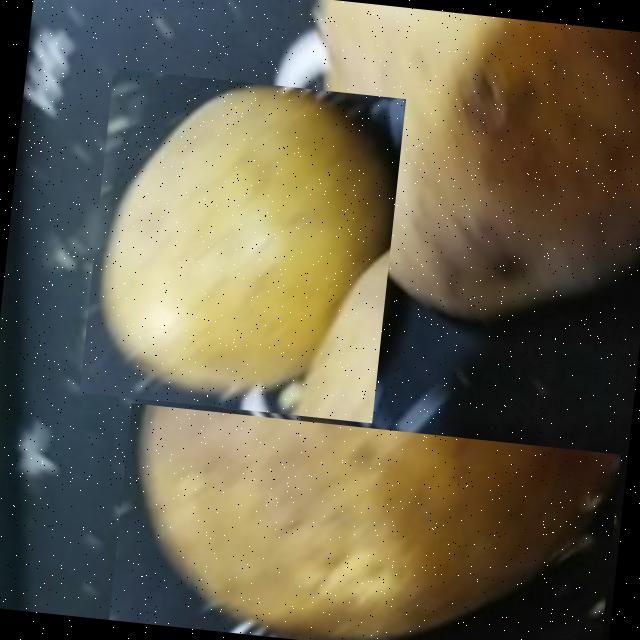Damaged potato: (275, 0, 640, 337), (107, 402, 619, 640)
Potato: (78, 68, 404, 423)
